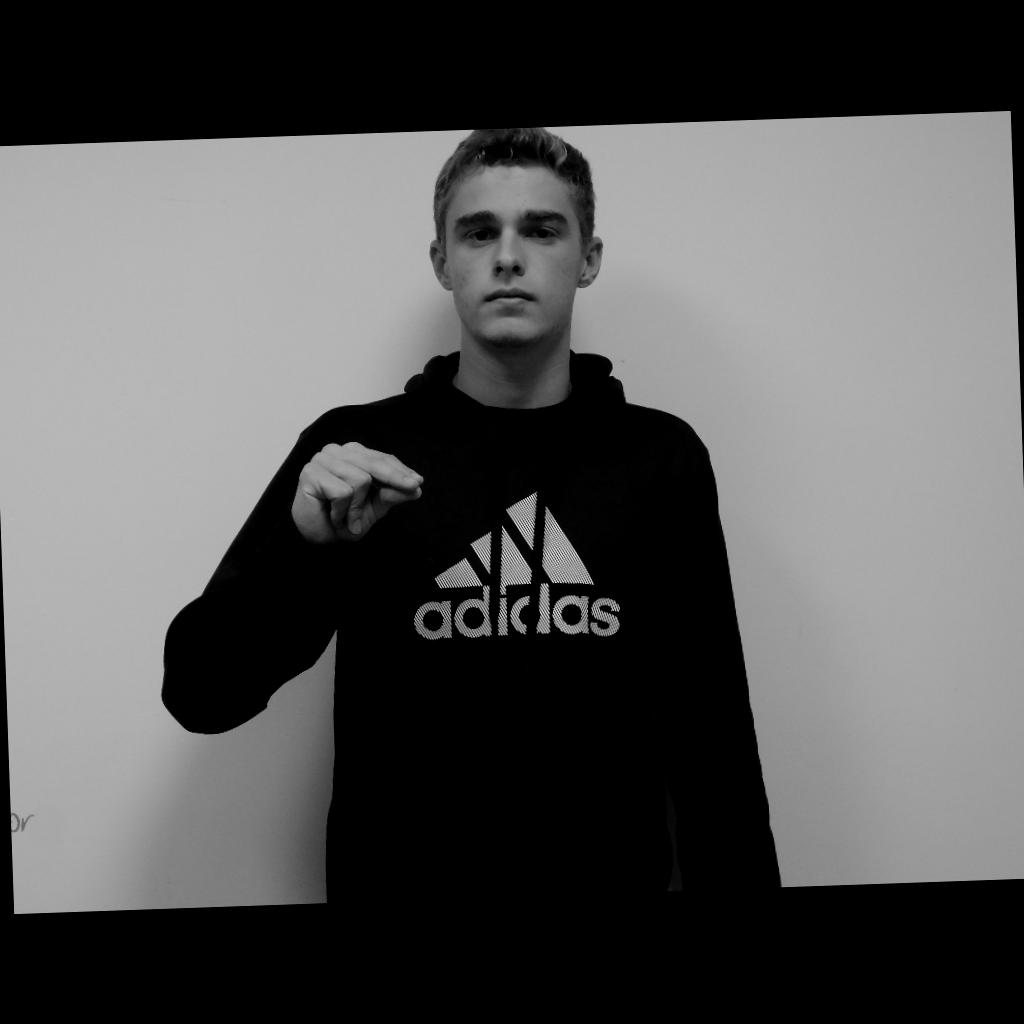no: (290, 438, 426, 547)
